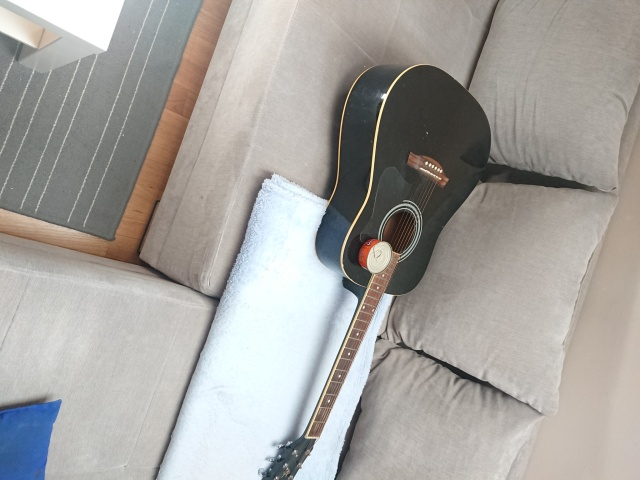Gavrilovic Pork Liver Pate 100g: (356, 236, 393, 275)
